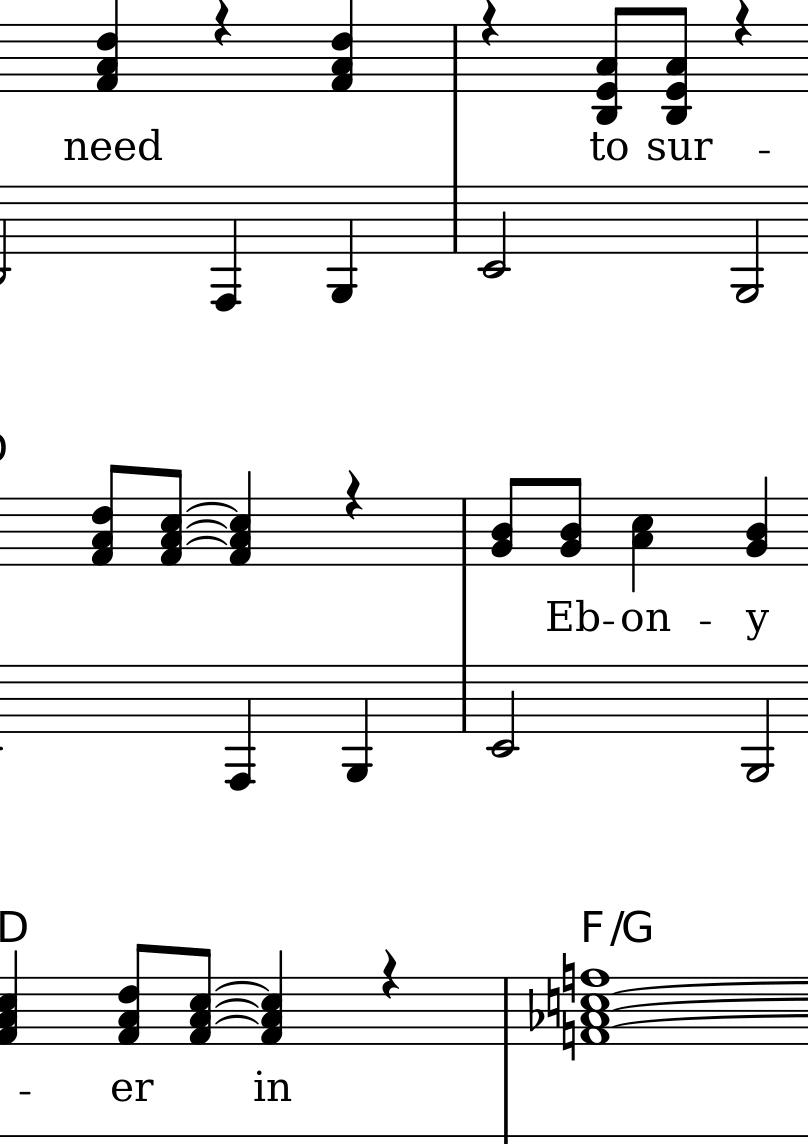1_4th: (580, 963, 609, 1047)
2_-2: (478, 183, 512, 282), (488, 664, 521, 762)
2_-5: (732, 182, 765, 305), (743, 662, 774, 784)
4_-5: (342, 663, 373, 786), (327, 182, 358, 304)
4_-6: (211, 182, 244, 313), (226, 662, 256, 791)
4_2_4: (745, 476, 769, 567)
4_3_5: (631, 496, 655, 594)
4_th: (118, 942, 157, 1053), (329, 1, 357, 96), (260, 951, 286, 1045), (94, 1, 120, 94), (229, 475, 255, 562), (1, 952, 20, 1047)
8_2_4: (491, 477, 523, 567), (561, 477, 584, 569)
8_th: (590, 5, 636, 126), (88, 461, 130, 566), (662, 4, 695, 126), (158, 466, 185, 568), (188, 947, 213, 1051)
Flat: (524, 987, 543, 1035)
Rests4: (342, 469, 365, 523), (731, 1, 756, 48), (381, 948, 401, 1003), (480, 1, 501, 51), (212, 1, 231, 52)
Single_barline: (454, 498, 475, 565), (445, 185, 465, 253), (454, 665, 474, 732), (495, 978, 515, 1045), (445, 26, 465, 91)
Slur: (215, 979, 267, 991), (186, 501, 240, 512), (215, 997, 259, 1008), (185, 518, 228, 529), (215, 1013, 257, 1024), (188, 535, 225, 546)
